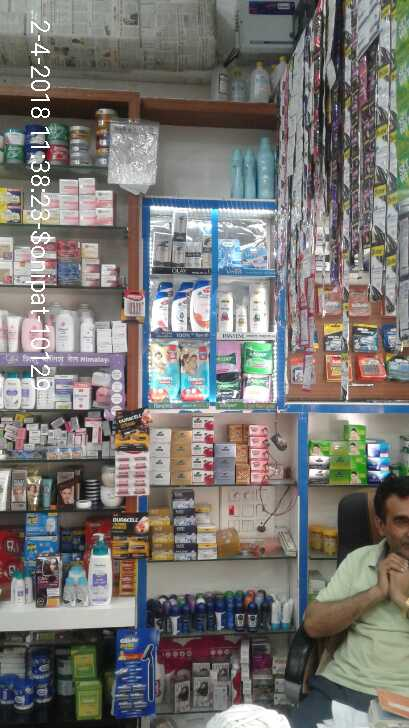gillete: (112, 628, 161, 718), (353, 323, 378, 351), (386, 353, 409, 382), (326, 324, 343, 351), (383, 323, 399, 351)
venus: (240, 248, 268, 270), (219, 238, 240, 267)
